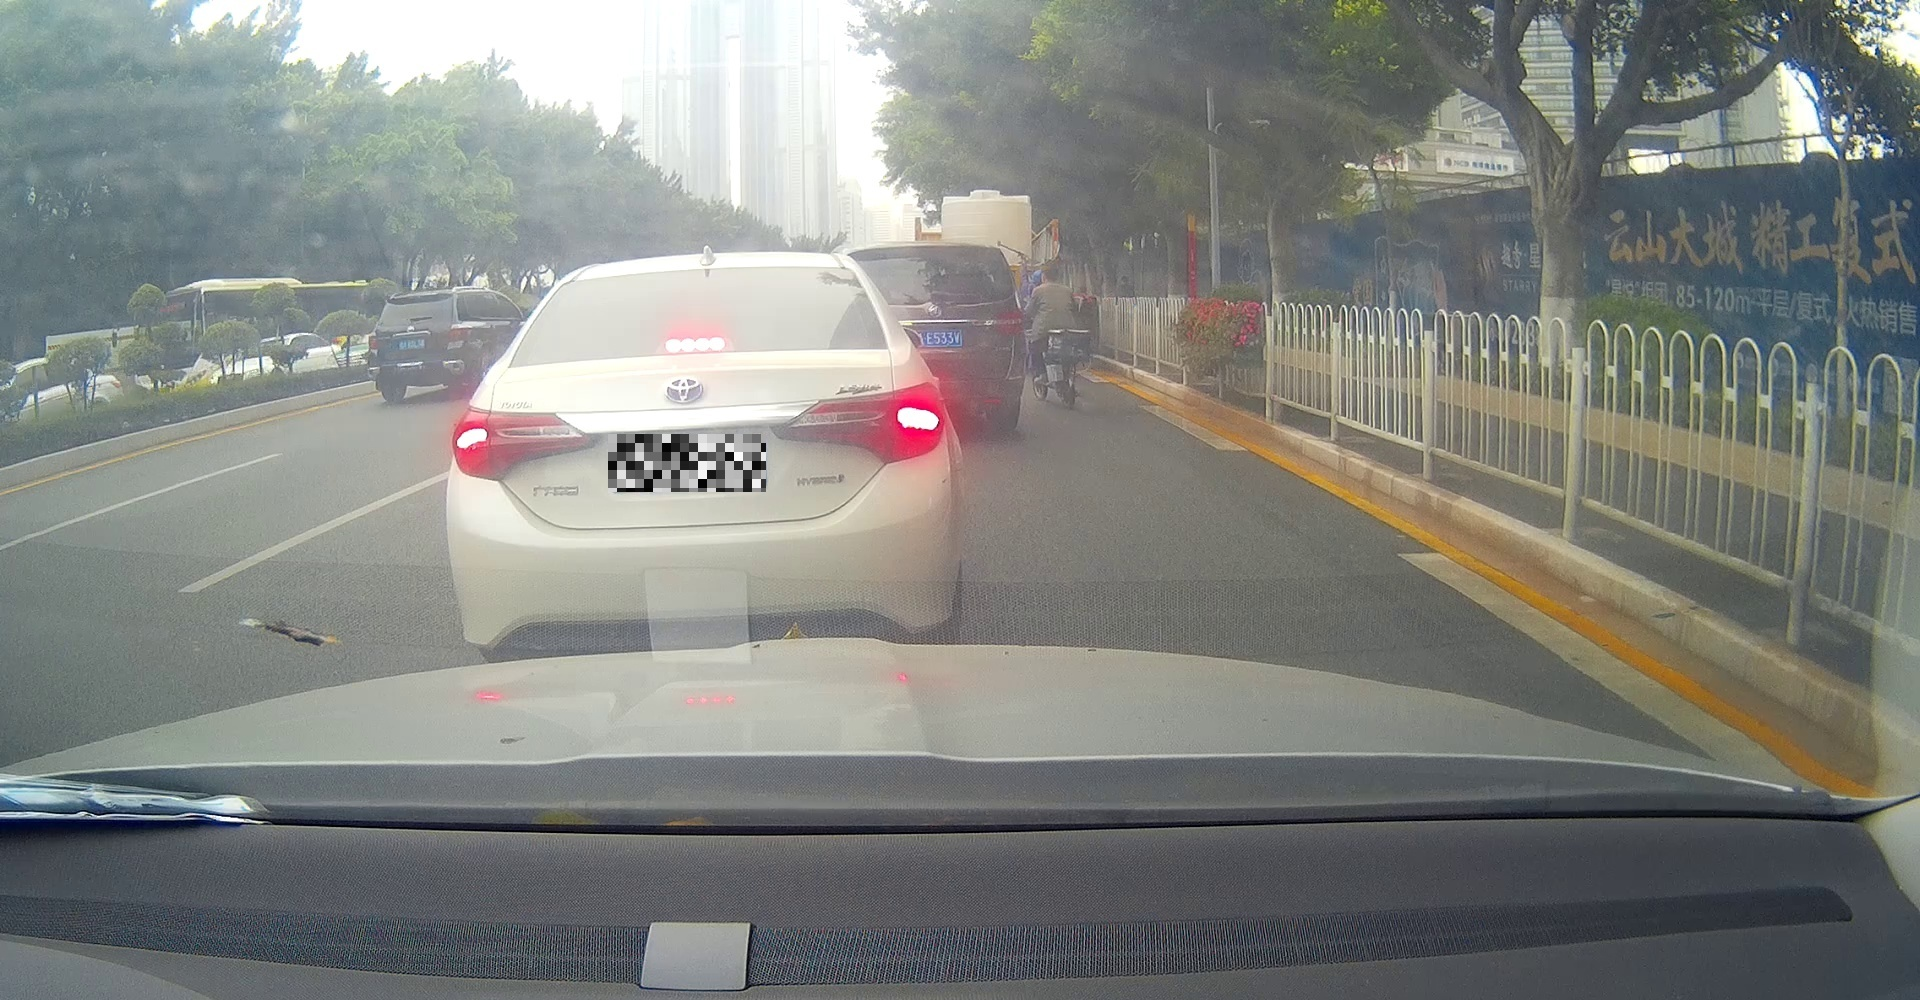L_light: (450, 404, 594, 482)
R_light: (770, 382, 943, 463)
T_light: (665, 335, 725, 353)
day-brake: (444, 258, 965, 662)
plate_1: (608, 434, 766, 492)
